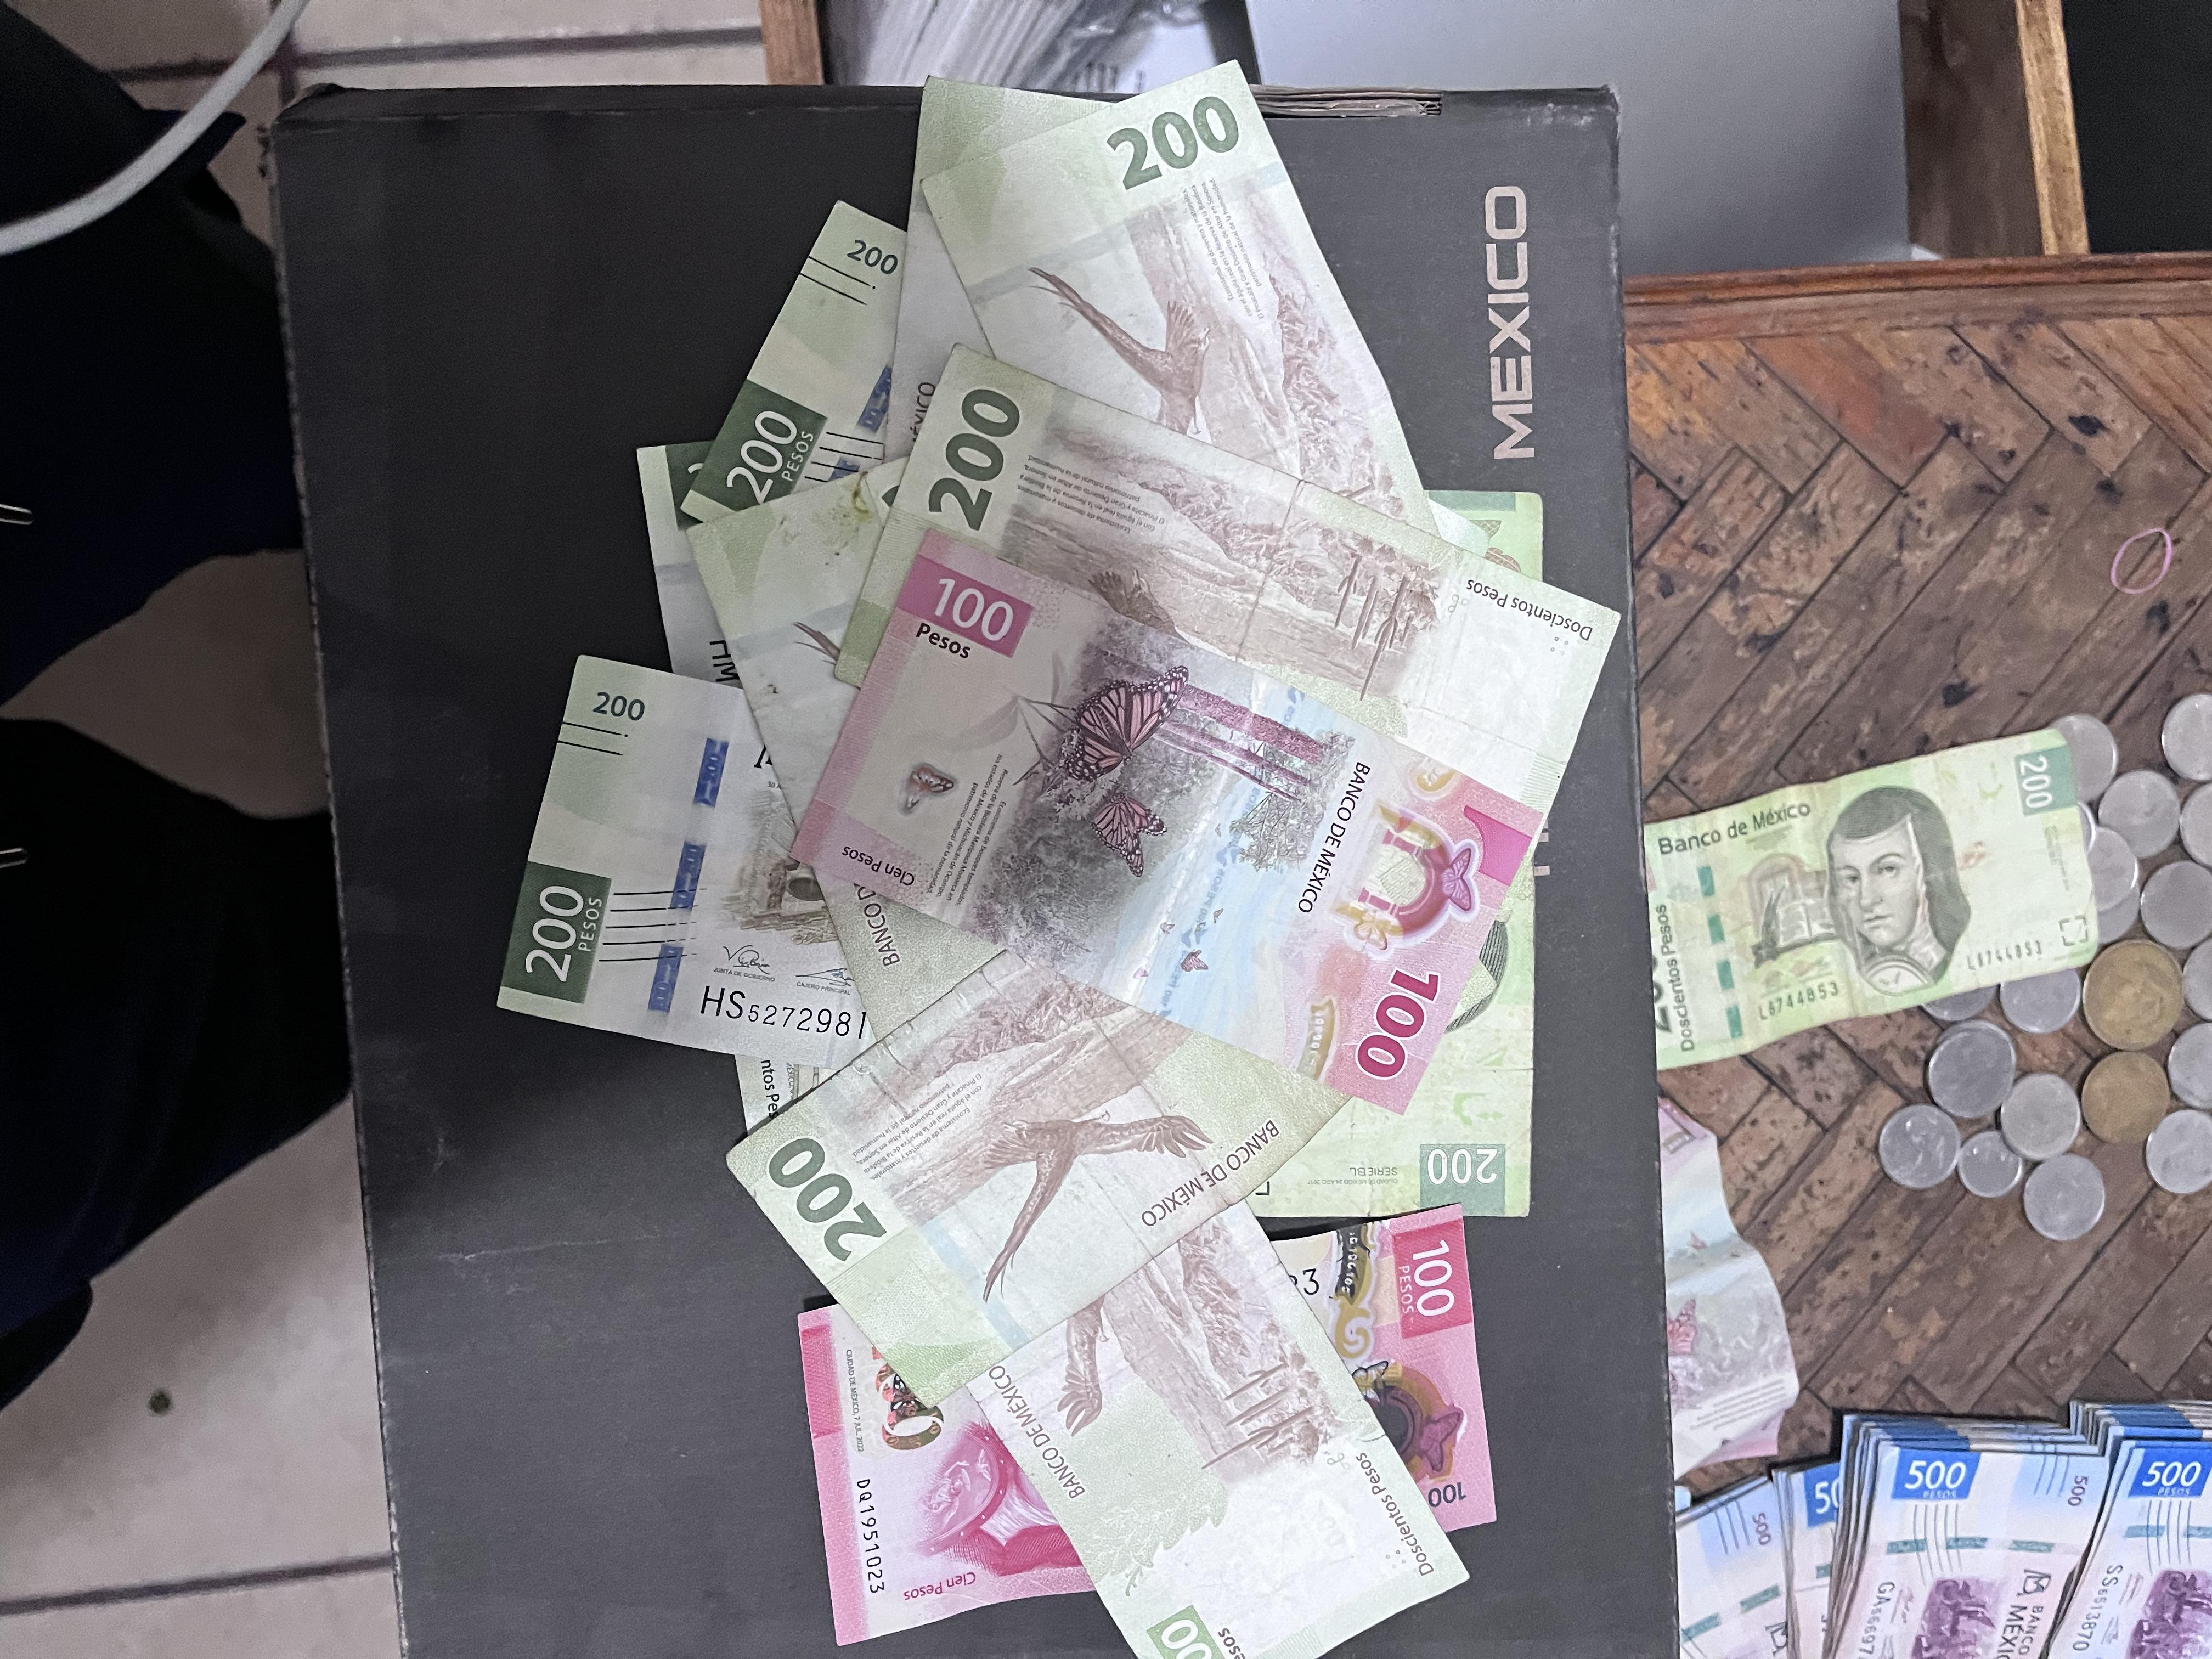100: (768, 1201, 1486, 1650)
200: (838, 342, 1604, 831), (716, 913, 1376, 1389), (902, 66, 1541, 523), (636, 193, 918, 946), (1649, 727, 2118, 1068), (1235, 861, 1569, 1244), (500, 659, 805, 1049)
500 nuevo: (1804, 1398, 2097, 1659), (2052, 1356, 2212, 1659), (1669, 1460, 1817, 1659)
